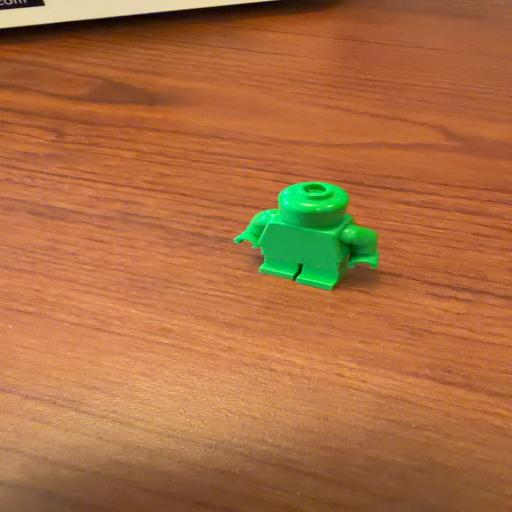UnoQ-minifig-detector: (234, 182, 379, 290)
